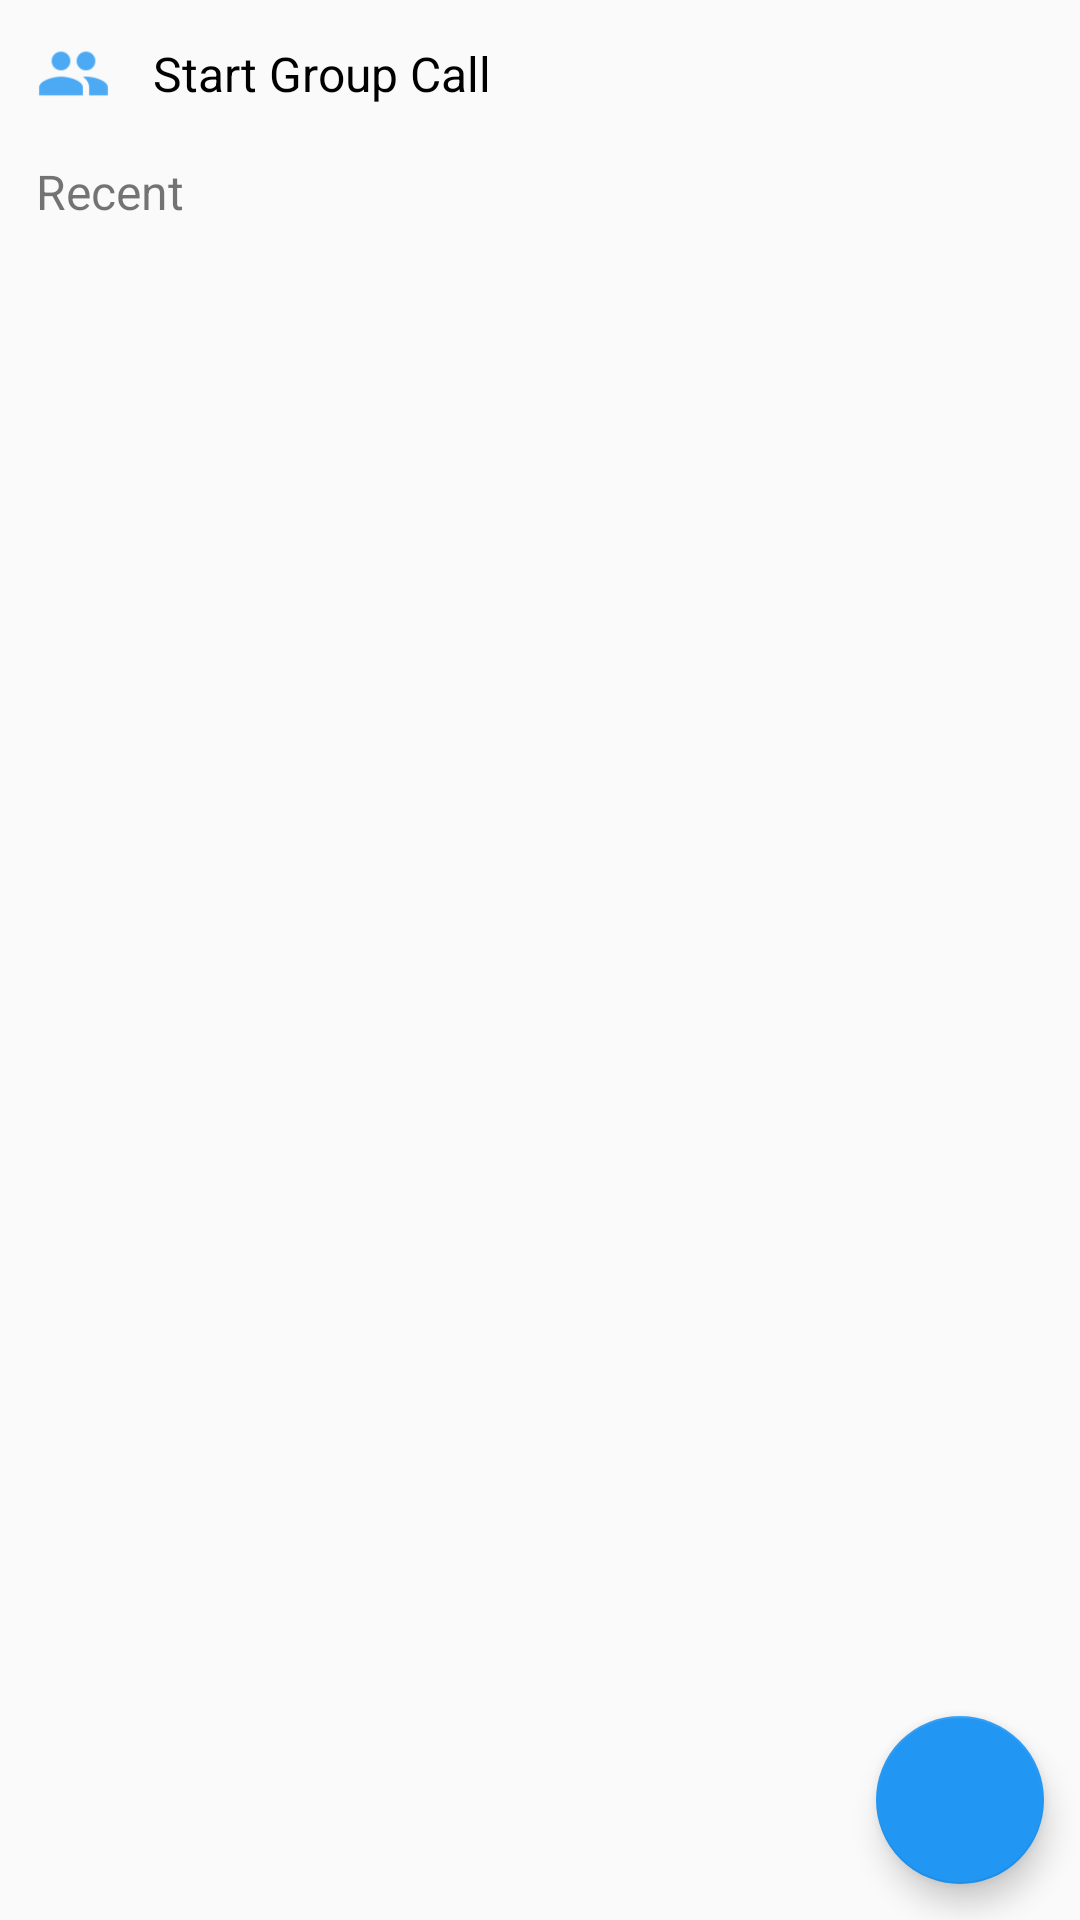

Locate icon controls on the screen. Image size 1080px x 1920px, boxes as (x1, y1, x2, y2).
contact: (39, 51, 108, 96)
